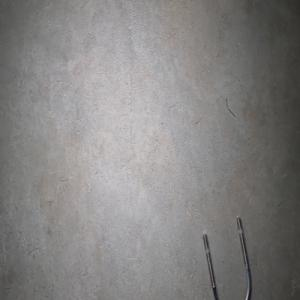ClampPart: (201, 215, 252, 300)
